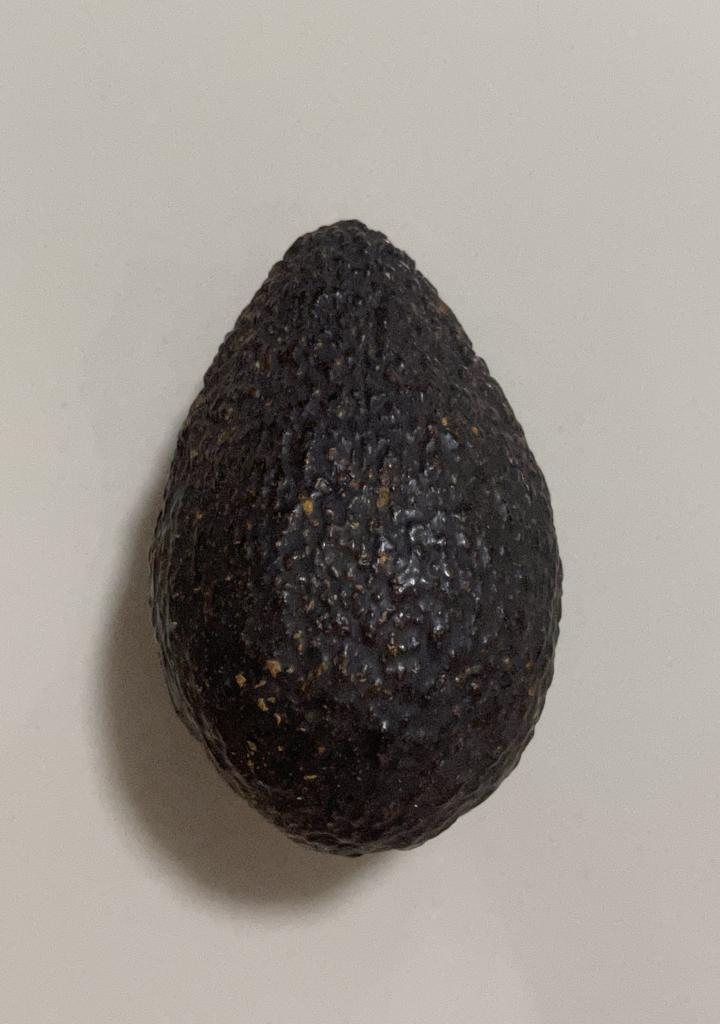Level3: (138, 206, 576, 867)
